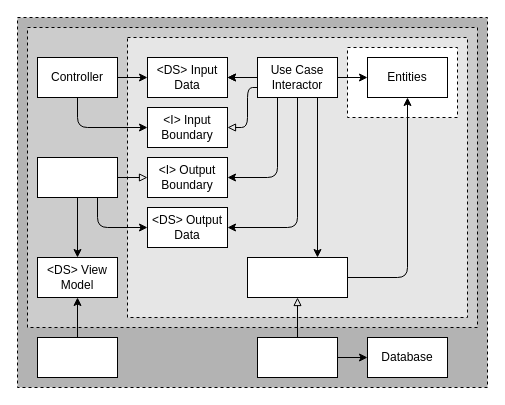
Some shapes in this 505 by 405 pixel diagram are drawn without their labels. The centre of each missing label's shape, as x and y in pixels:
"<I> Data Access Interface" belongs at point (297, 277).
"Data Access" belongs at point (297, 357).
"Presenter" belongs at point (77, 177).
"View" belongs at point (77, 357).
